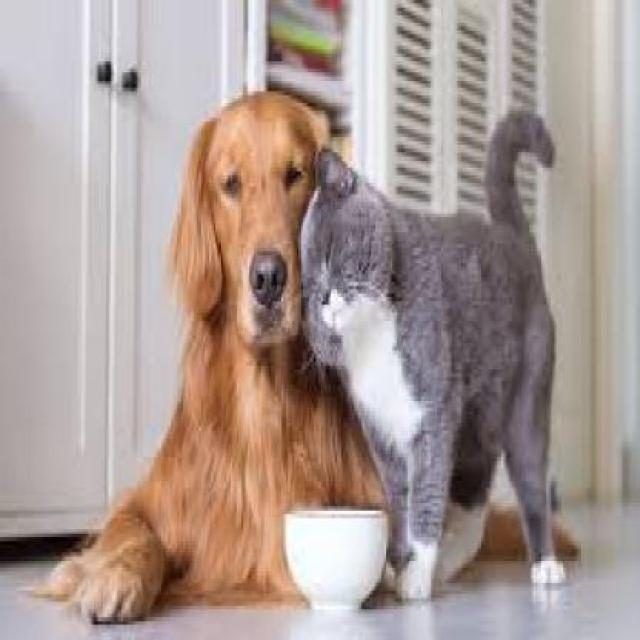cat: (298, 107, 584, 611)
dog: (63, 87, 362, 628)
